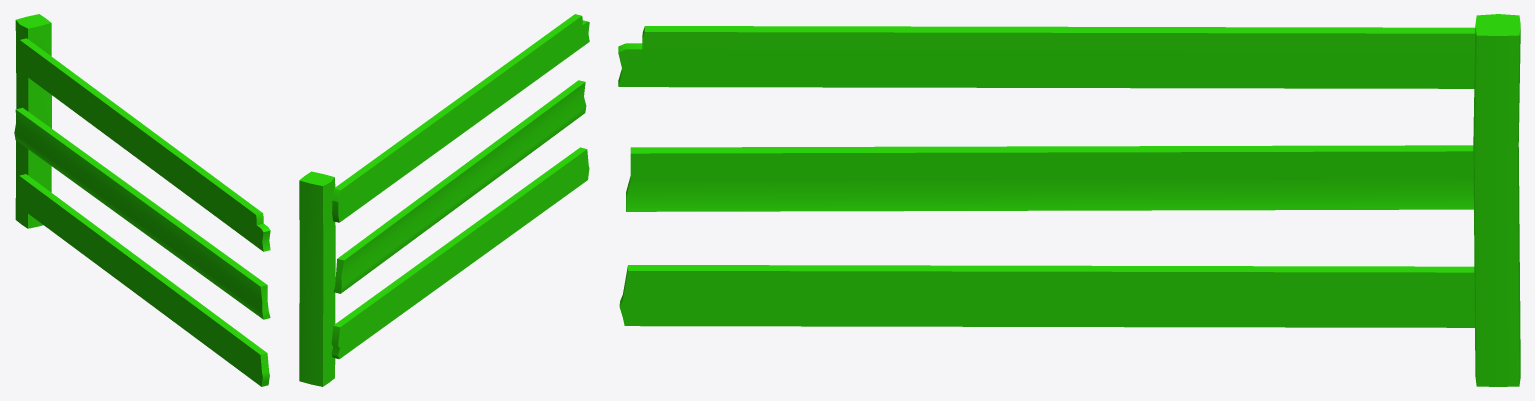
The model's file is Farm_Fence_01A.fbx.
The picture shows the model from 3 angles, left to right: view 1: azimuth 30°, elevation 25°; view 2: azimuth 150°, elevation 25°; view 3: azimuth 270°, elevation 25°; orthographic projection. The views are drawn at different scales.
Parts seen in each view (by area): view 1: Farm_Fence_01A; view 2: Farm_Fence_01A; view 3: Farm_Fence_01A.
Part boxes in pixels (left/top/right/bottom): Farm_Fence_01A: left=14, top=14, right=270, bottom=386; Farm_Fence_01A: left=299, top=14, right=589, bottom=386; Farm_Fence_01A: left=618, top=14, right=1520, bottom=386.
Size of the model in its own units: 24.4 by 134 by 313.
